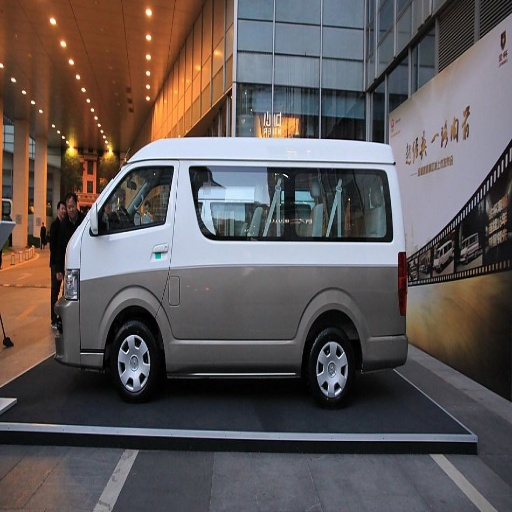back_left_door: (104, 185, 168, 264)
trunk: (205, 246, 398, 367), (78, 281, 118, 351)
